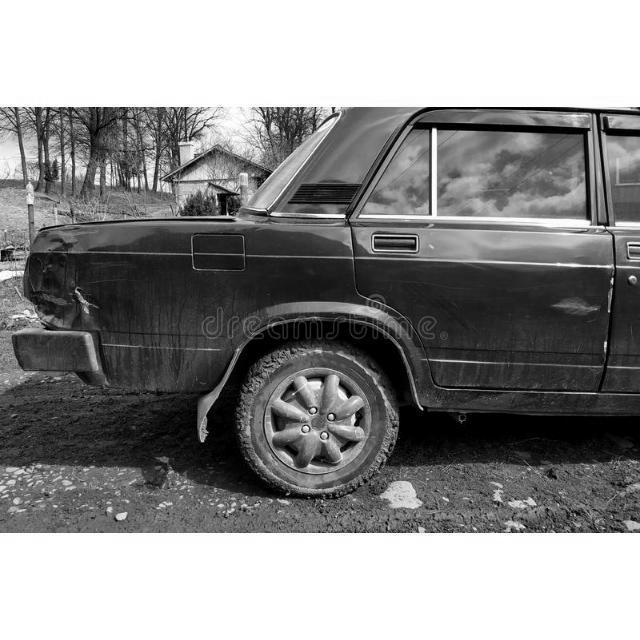doorouter-dent: (355, 222, 607, 390)
quaterpanel-dent: (38, 222, 355, 367)
